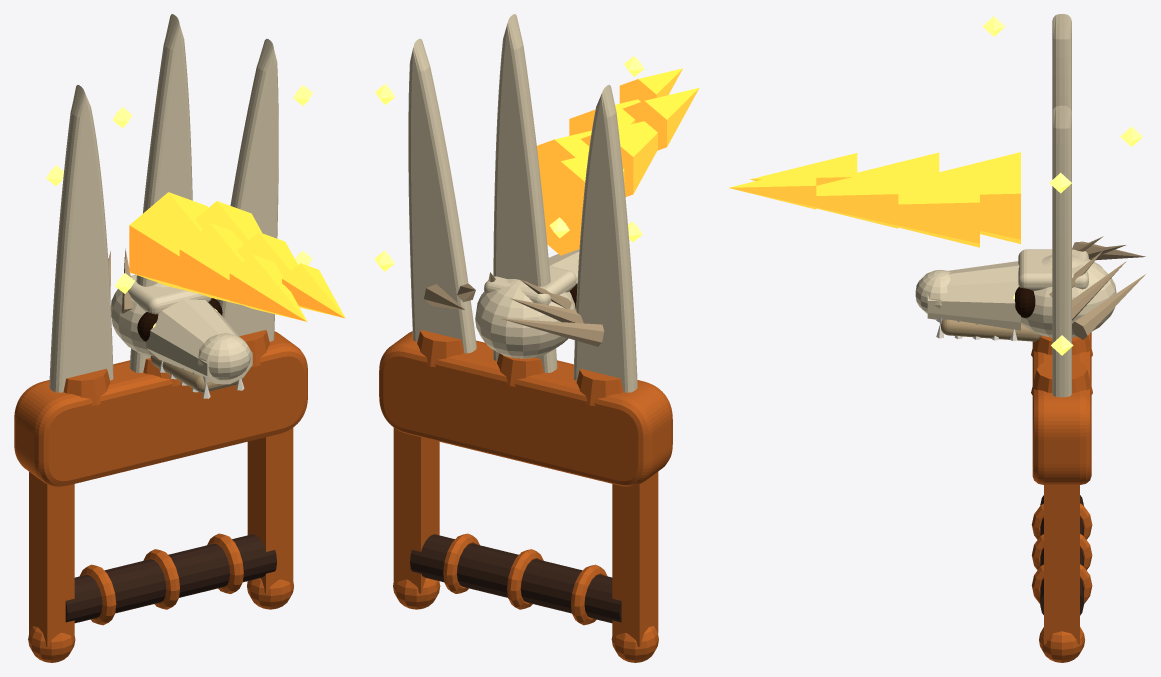
The model's file is drclaws.glb.
3 renders of one model, left to right at view 1: azimuth 30°, elevation 25°; view 2: azimuth 150°, elevation 25°; view 3: azimuth 270°, elevation 25°, orthographic. The views are drawn at different scales.
Parts seen in each view (by area): view 1: frame, blade, flame, bone, grip, wrap, ember, boneDark, socket; view 2: frame, blade, flame, grip, bone, horn, wrap, ember; view 3: flame, frame, bone, blade, horn, wrap, boneDark, ember.
Part boxes in pixels (x1,y1,x2,y2): frame: [14, 330, 307, 662]; blade: [49, 14, 278, 392]; flame: [129, 192, 345, 321]; bone: [111, 274, 252, 384]; grip: [65, 534, 276, 623]; wrap: [80, 533, 243, 625]; ember: [46, 85, 312, 327]; boneDark: [150, 355, 243, 392]; socket: [137, 298, 222, 341]; frame: [379, 330, 672, 662]; blade: [408, 14, 637, 392]; flame: [537, 68, 699, 255]; grip: [410, 534, 621, 623]; bone: [475, 249, 579, 358]; horn: [424, 272, 604, 346]; wrap: [443, 533, 607, 625]; ember: [374, 56, 644, 271]; flame: [728, 152, 1020, 247]; frame: [1031, 332, 1092, 662]; bone: [915, 249, 1116, 337]; blade: [1052, 14, 1071, 397]; horn: [1049, 236, 1145, 339]; wrap: [1031, 503, 1092, 604]; boneDark: [941, 319, 1041, 341]; ember: [982, 16, 1142, 355].
Bounding box in the file's own units: 1.26 × 2.58 × 1.63.
